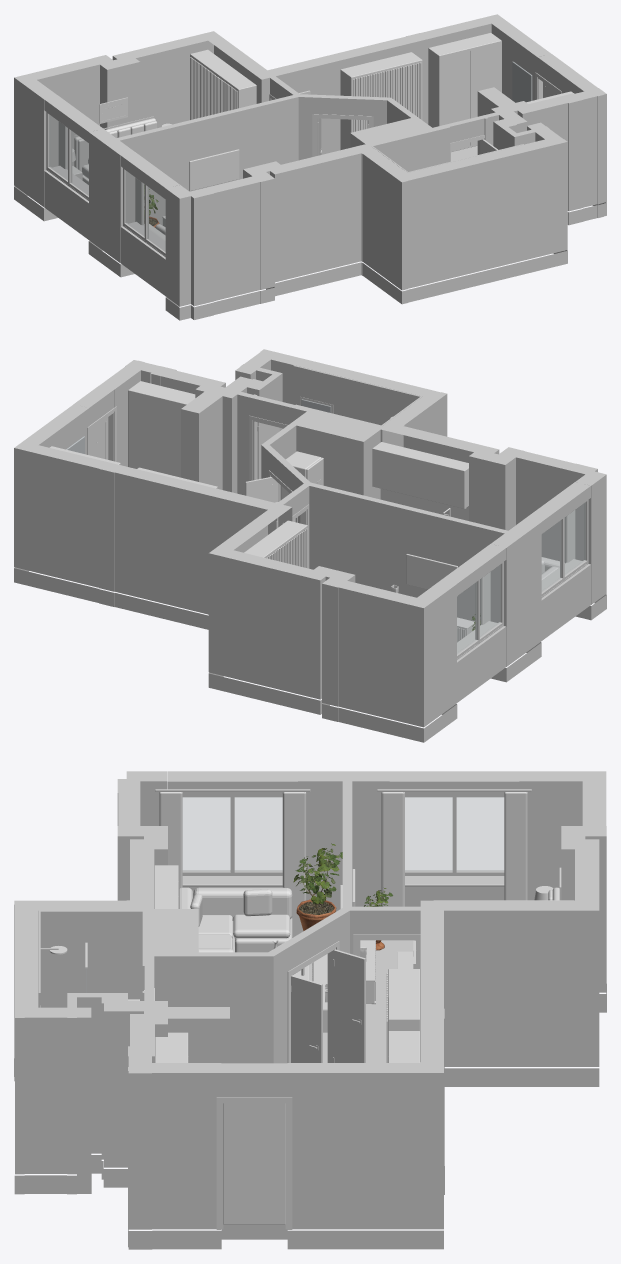
3 renders of one model, top to bottom at view 1: azimuth 30°, elevation 25°; view 2: azimuth 150°, elevation 25°; view 3: azimuth 270°, elevation 25°, orthographic. The views are drawn at different scales.
Visible parts, largest first — view 1: struct, furn, glass_1, glass_0, mirror_h; view 2: struct, furn, glass_0, glass_1, detail; view 3: struct, furn, glass_1, glass_0, potted_plant_01_leaves.
Part boxes in pixels (box(x1,y1,x2,y2)): struct: box(14, 14, 606, 320); furn: box(58, 33, 572, 240); glass_1: box(125, 171, 165, 251); glass_0: box(49, 115, 88, 195); mirror_h: box(512, 61, 532, 102); struct: box(14, 349, 606, 742); furn: box(49, 381, 575, 642); glass_0: box(457, 565, 500, 653); glass_1: box(542, 503, 585, 591); detail: box(381, 416, 468, 520); struct: box(14, 771, 606, 1249); furn: box(40, 789, 573, 1229); glass_1: box(183, 797, 282, 871); glass_0: box(405, 797, 503, 871); potted_plant_01_leaves: box(293, 843, 342, 904).
Bounding box in the file's own units: 10.37 × 2.82 × 8.59.
Materials: 11 (6 with a texture image).
